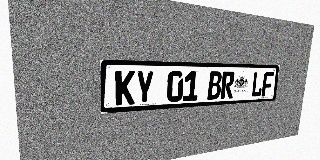0: (166, 71, 184, 102)
1: (183, 71, 199, 101)
B: (207, 71, 222, 100)
F: (261, 72, 274, 96)
K: (115, 70, 135, 105)
L: (251, 72, 264, 97)
R: (220, 71, 235, 99)
Y: (135, 71, 154, 104)
